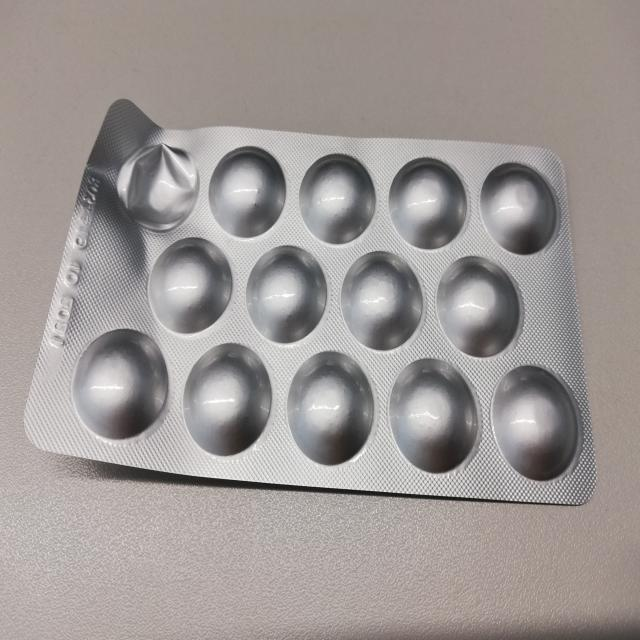Empty: (115, 138, 201, 233)
Pill: (492, 362, 586, 485), (75, 326, 171, 445), (388, 356, 481, 477), (286, 348, 377, 470), (180, 340, 274, 458), (435, 253, 525, 357), (339, 250, 428, 353), (148, 234, 234, 339), (386, 151, 471, 250), (246, 244, 328, 344), (479, 156, 562, 254), (207, 143, 288, 240), (297, 150, 378, 246)
